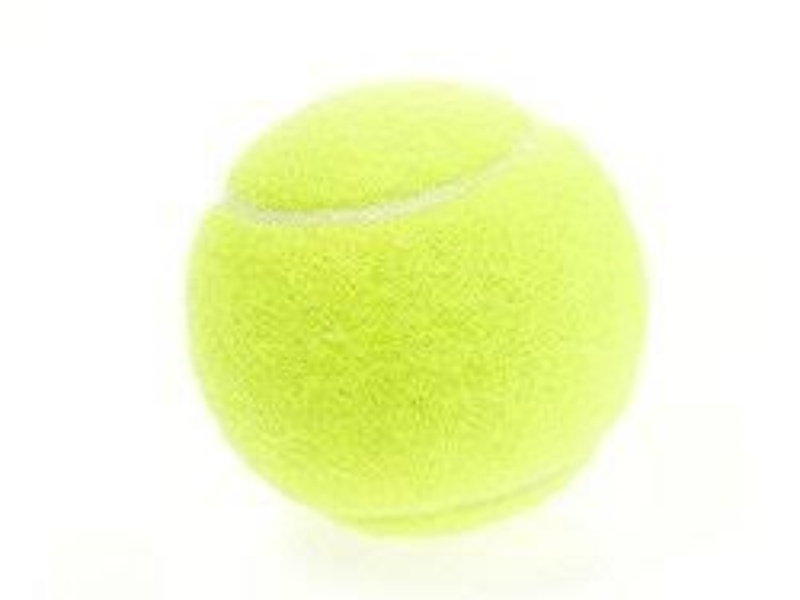tennis ball: (182, 73, 667, 537)
